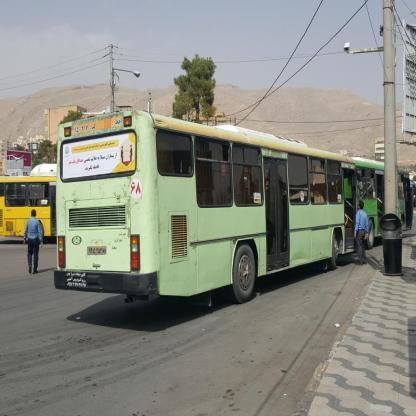Bus: (47, 107, 367, 321), (344, 157, 416, 242), (0, 171, 65, 250)
